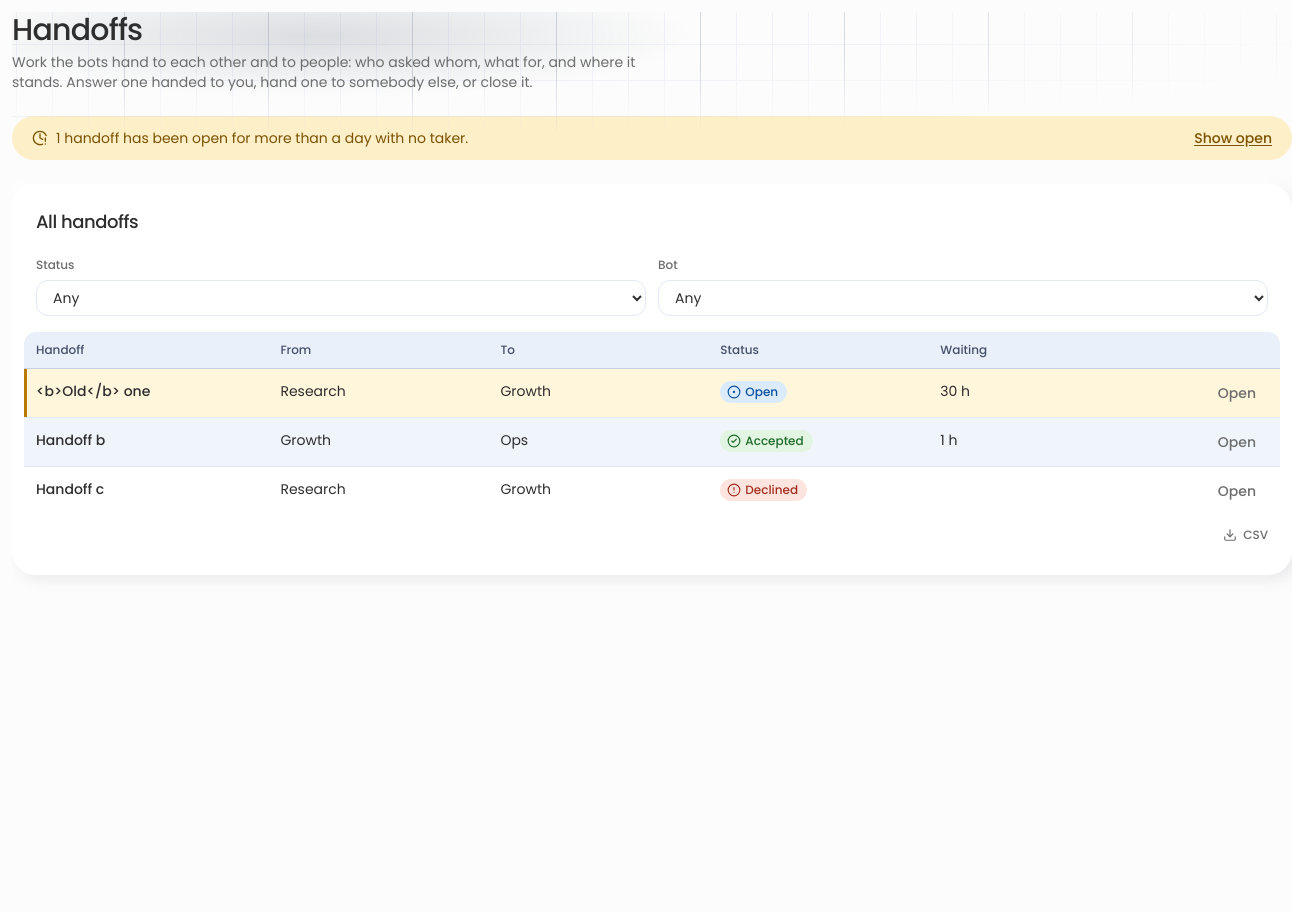
the handoffs page › a finished handoff has no reassign or close
Click the button with aria-label "Open Handoff c" at x=1237, y=491, box [1206, 473, 1268, 509]
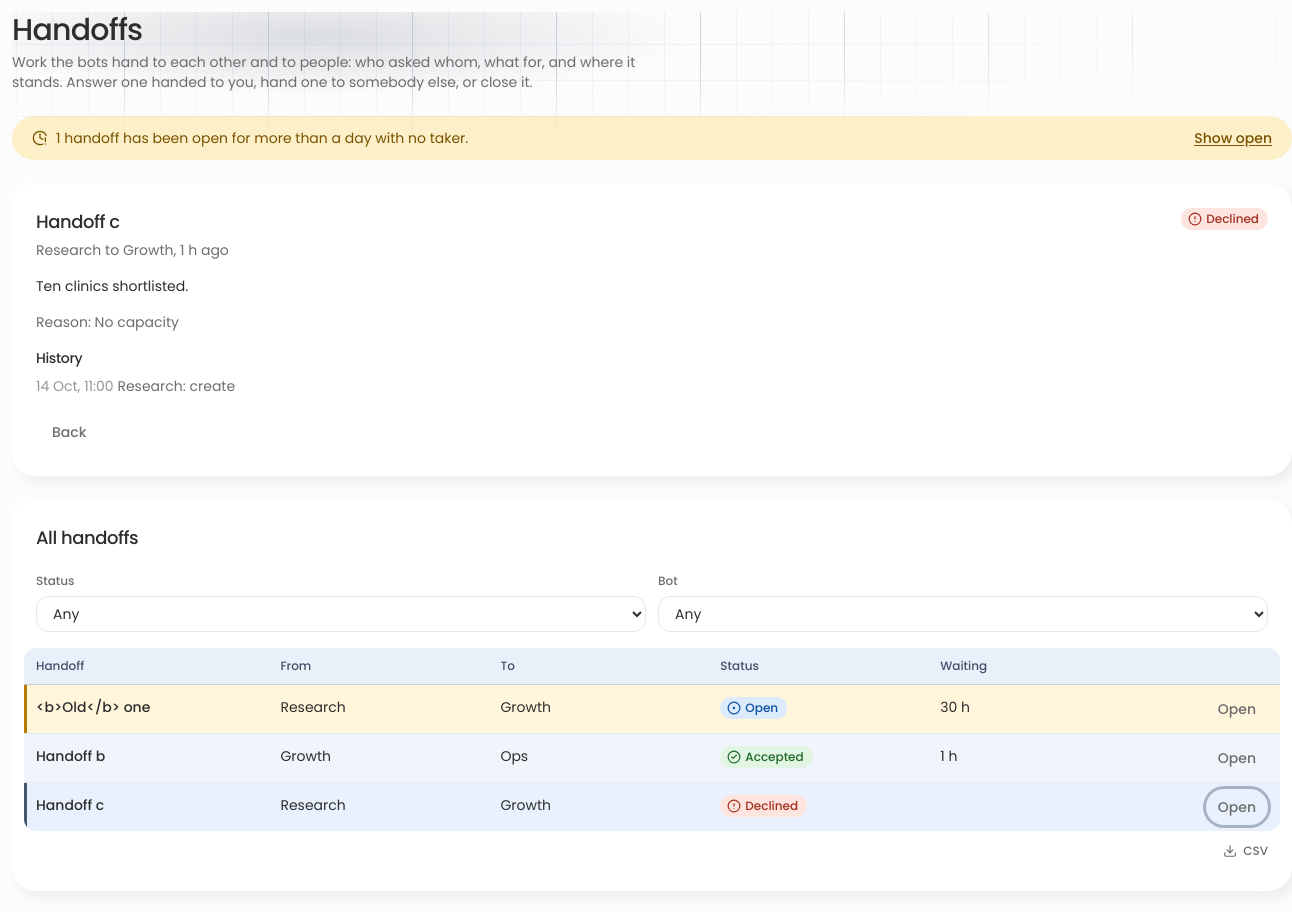
Now the text "Reason: No capacity" is shown, box [36, 312, 179, 332]
